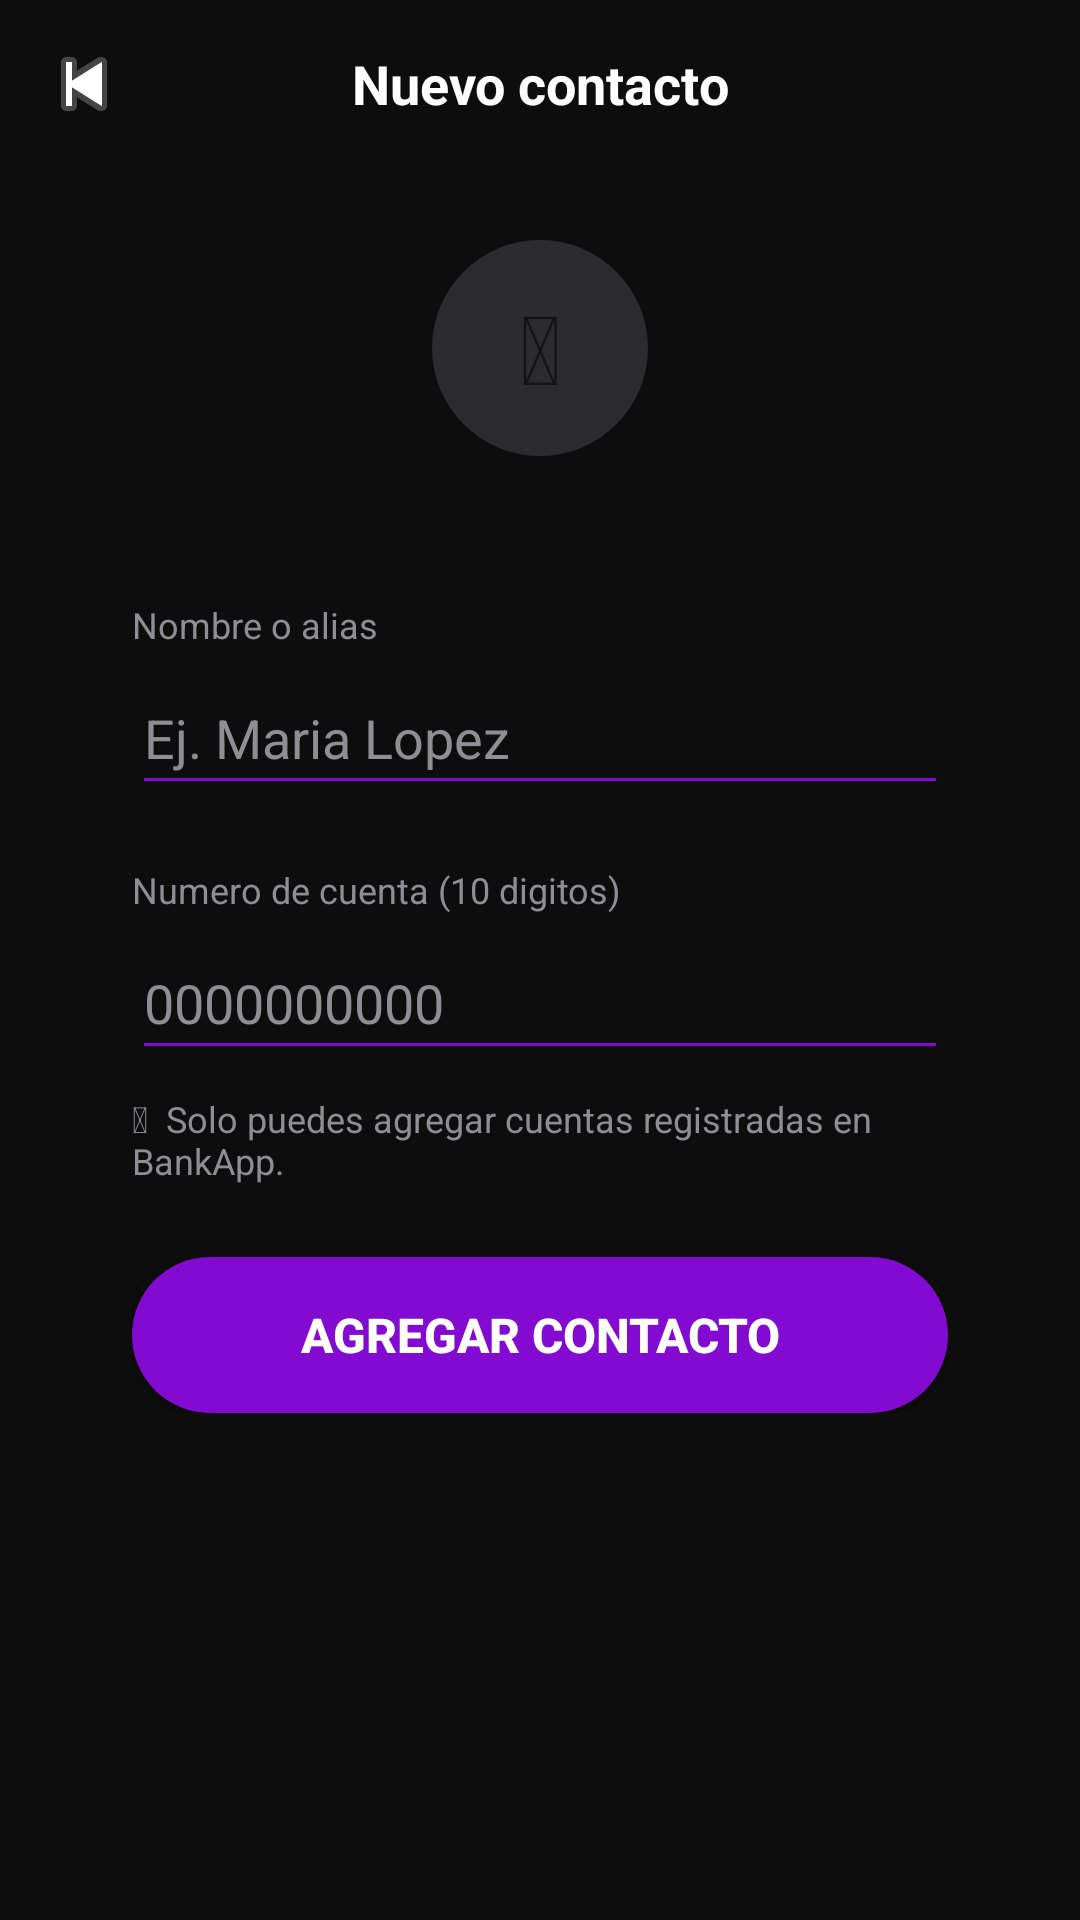

Where to tap for icons on this 1080px x 1920px app screen, as point (x, y):
Regresar: point (84, 84)
